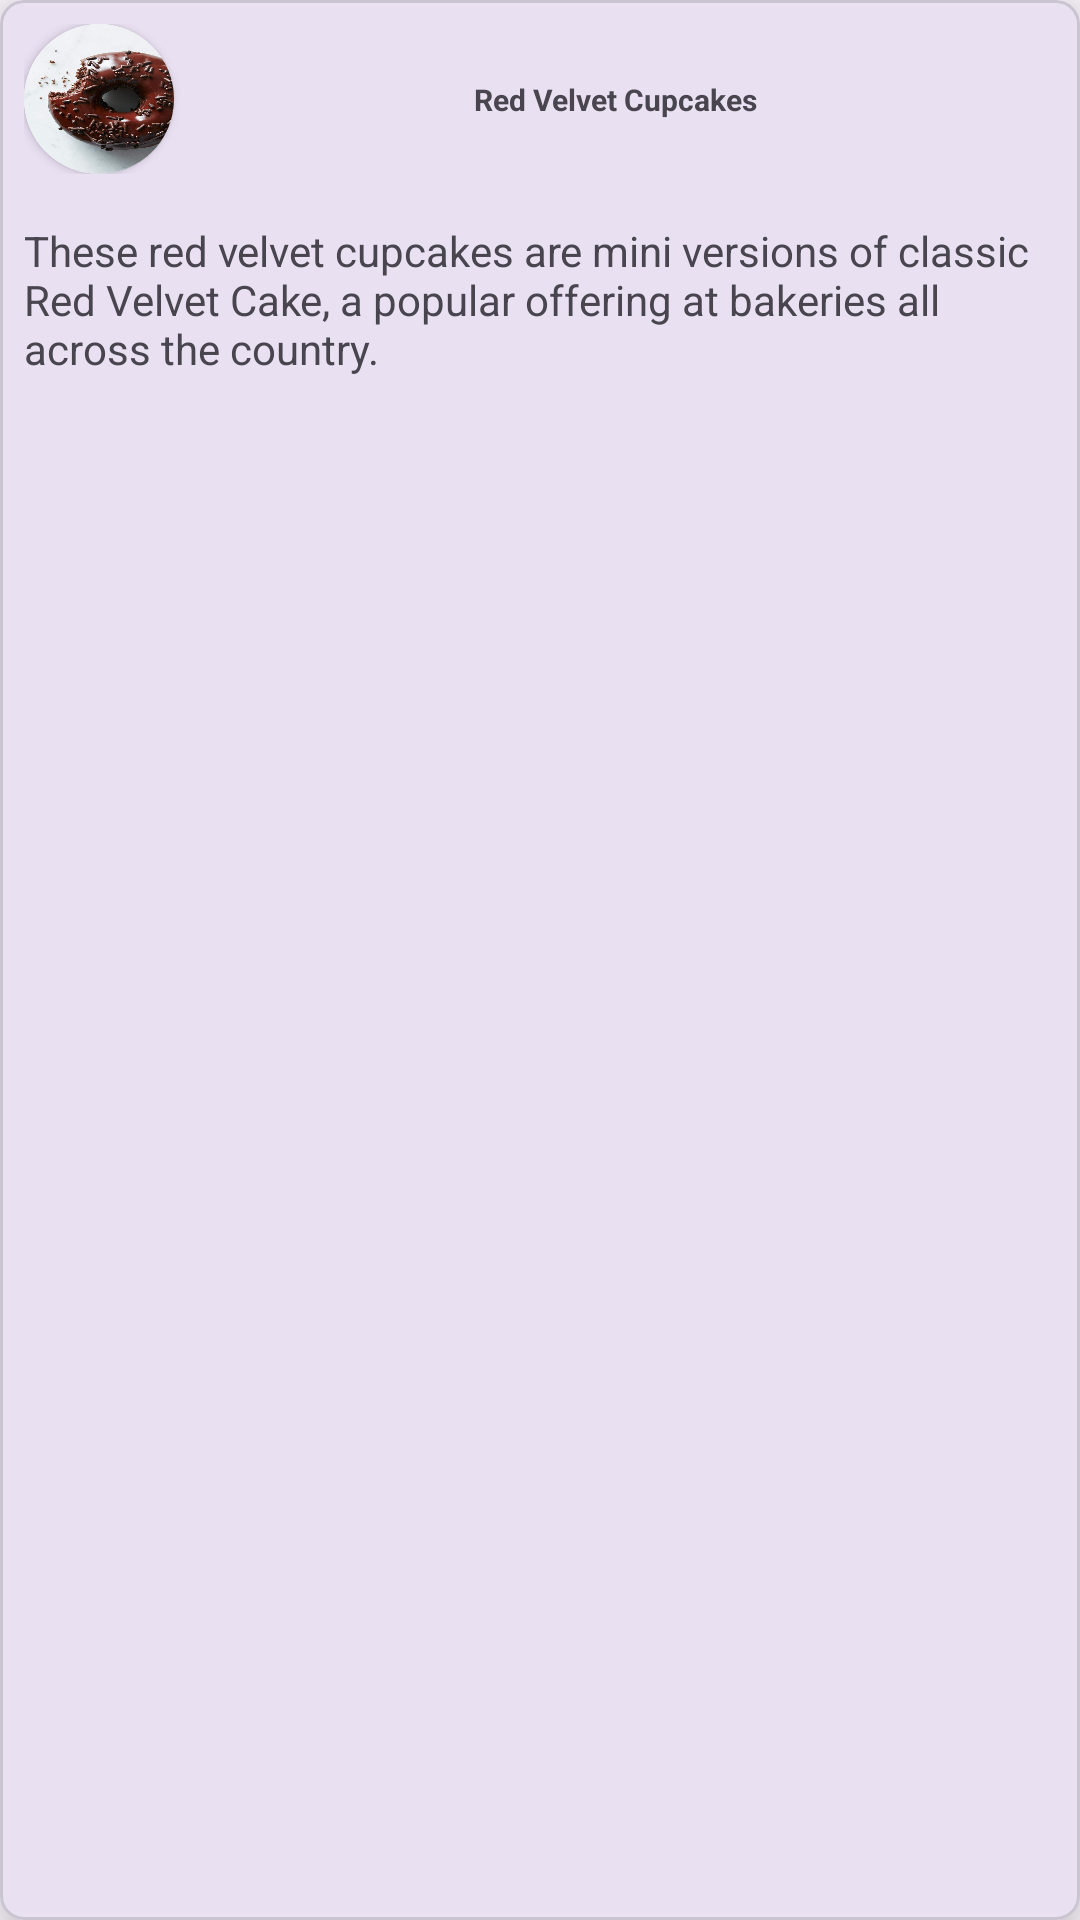

Icon bounding boxes for this 1080x1920 phone screenshot, format (x1, y1, x2, y2):
donut: (24, 33, 174, 174)
